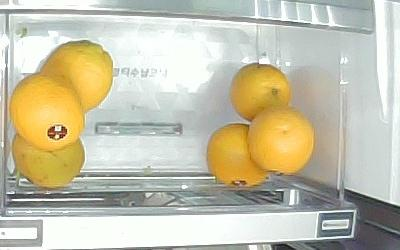orange: (9, 73, 85, 152), (38, 41, 113, 114), (247, 107, 314, 175), (12, 133, 85, 189), (230, 63, 292, 123), (207, 124, 267, 186)
